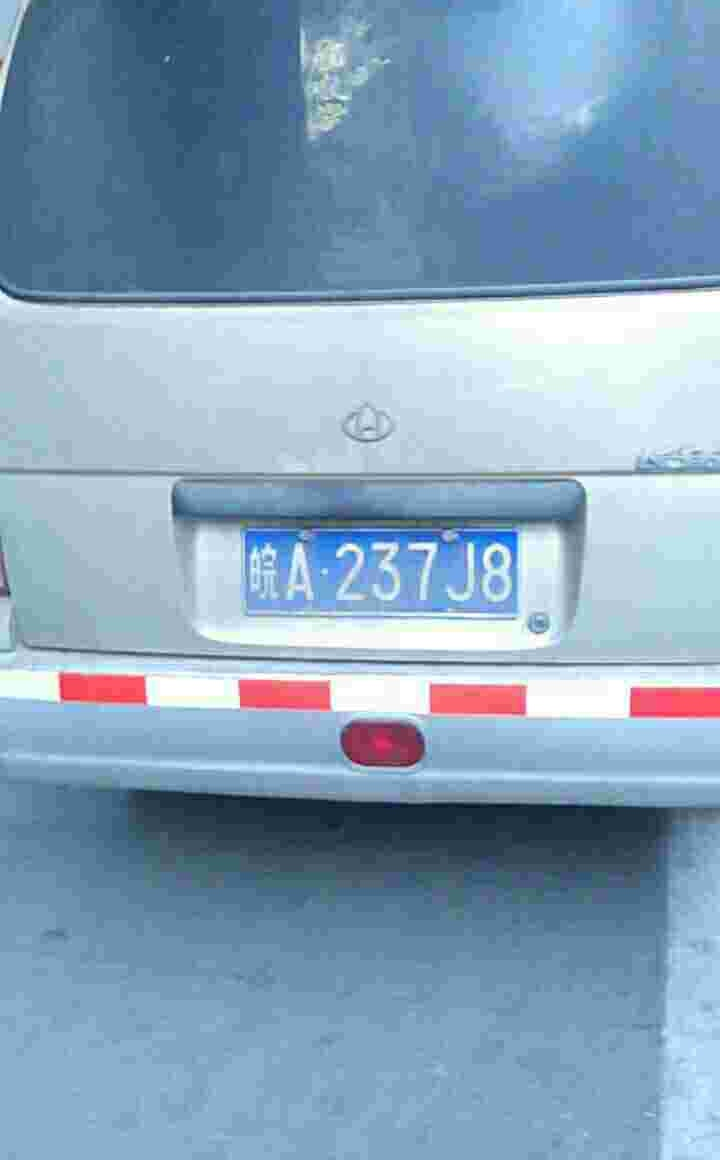license_plate: (237, 520, 525, 615)
